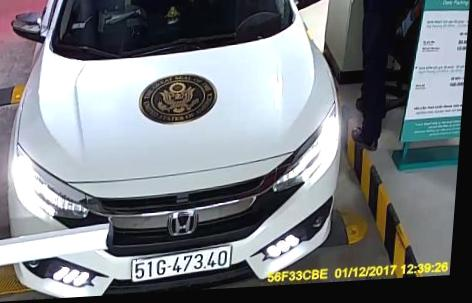License_Plate: (133, 248, 232, 280)
